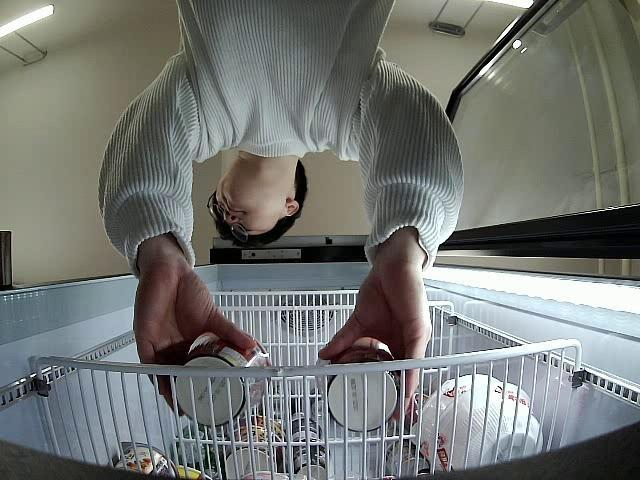02_shinRamen_S: (175, 332, 272, 428), (316, 340, 400, 432)
